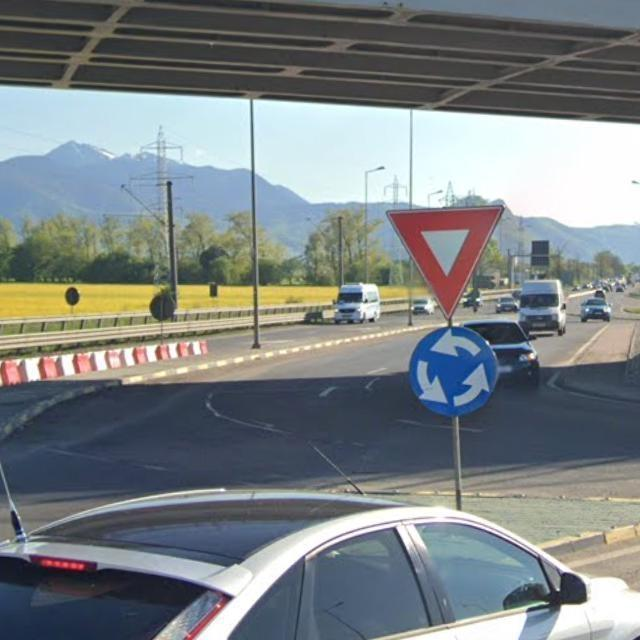prio_give_way: (380, 204, 502, 320)
